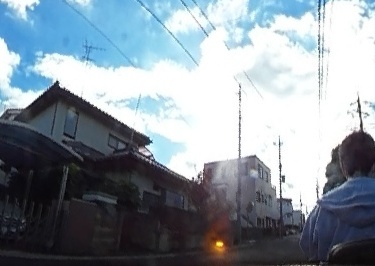person: (313, 136, 375, 250)
